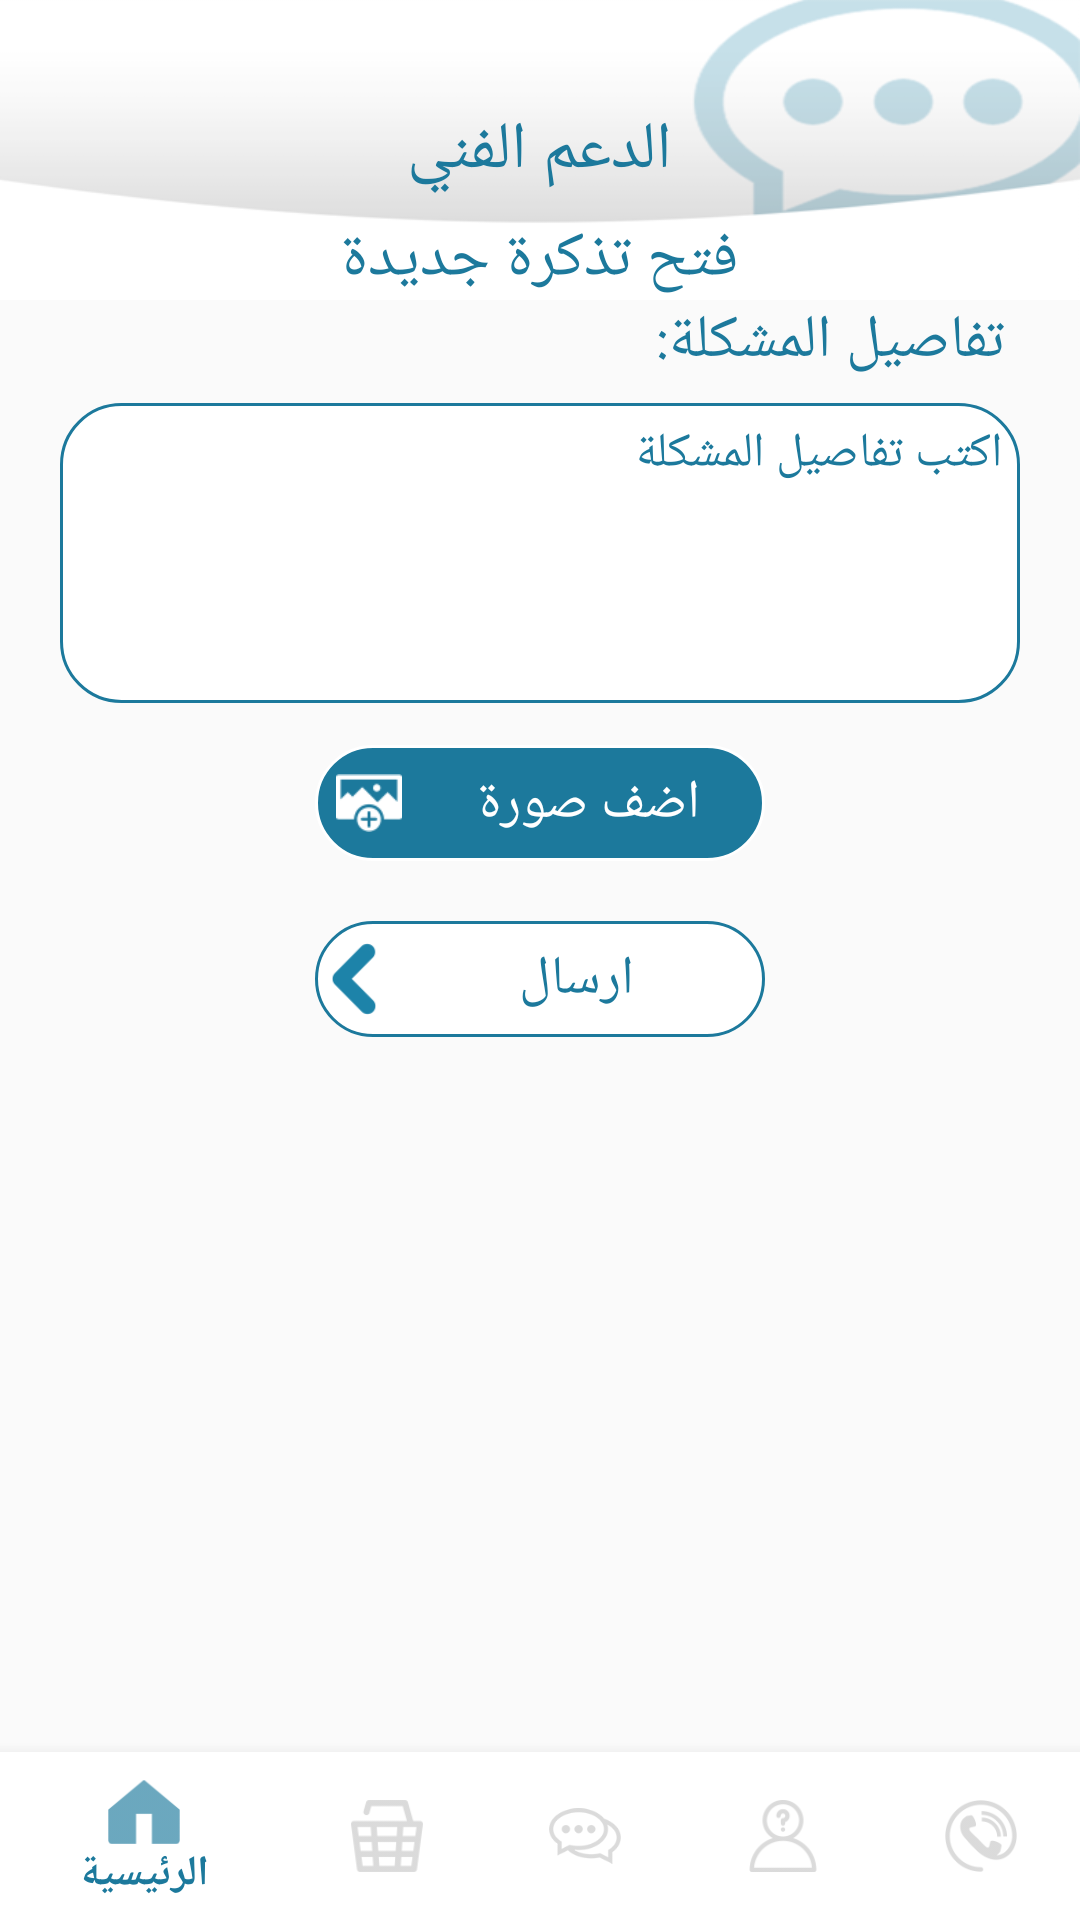

Locate icon controls on the screen. Image size 1080px x 1920px, boxes as (x1, y1, x2, y2).
go arrow: (332, 944, 376, 1014)
